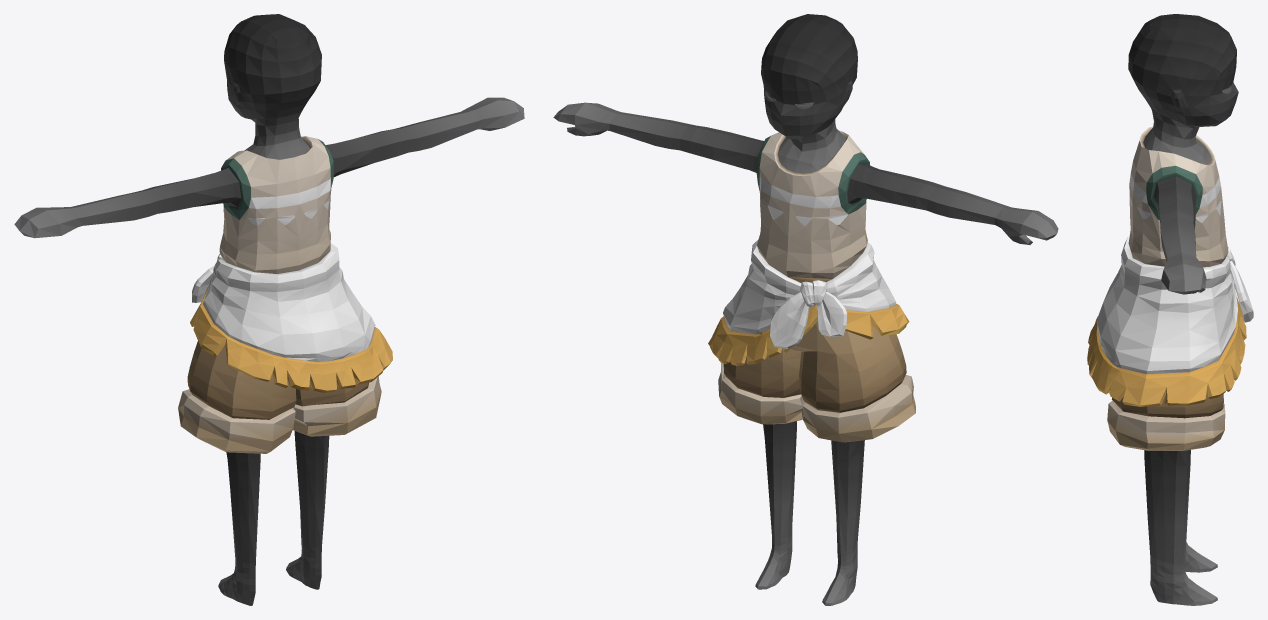
The model's file is CharSkyKid_Body_AP32WaistScarfShorts.glb.
3 renders of one model, left to right at view 1: azimuth 30°, elevation 25°; view 2: azimuth 150°, elevation 25°; view 3: azimuth 270°, elevation 25°, orthographic.
Visible parts, largest first — view 1: CharSkyKid_Body_AP32WaistScarfShorts; view 2: CharSkyKid_Body_AP32WaistScarfShorts; view 3: CharSkyKid_Body_AP32WaistScarfShorts.
Part boxes in pixels (x1=…): CharSkyKid_Body_AP32WaistScarfShorts: x1=14, y1=14, x2=524, y2=605; CharSkyKid_Body_AP32WaistScarfShorts: x1=553, y1=14, x2=1058, y2=605; CharSkyKid_Body_AP32WaistScarfShorts: x1=1087, y1=14, x2=1253, y2=605.
Bounding box in the file's own units: 13.83 × 14.94 × 3.98.
Materials: 1 (1 with a texture image).
